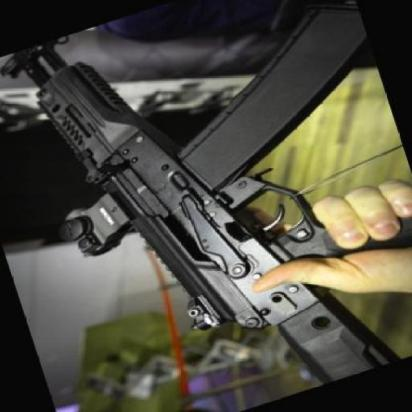Gun: (12, 33, 394, 378)
